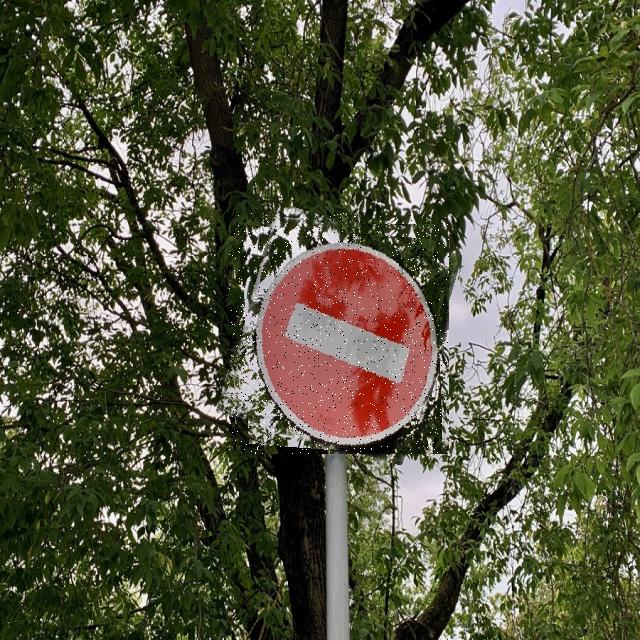no entry: (229, 213, 449, 454)
